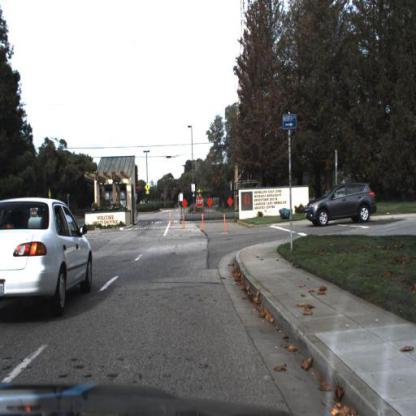car: (1, 196, 96, 314), (303, 179, 379, 228)
